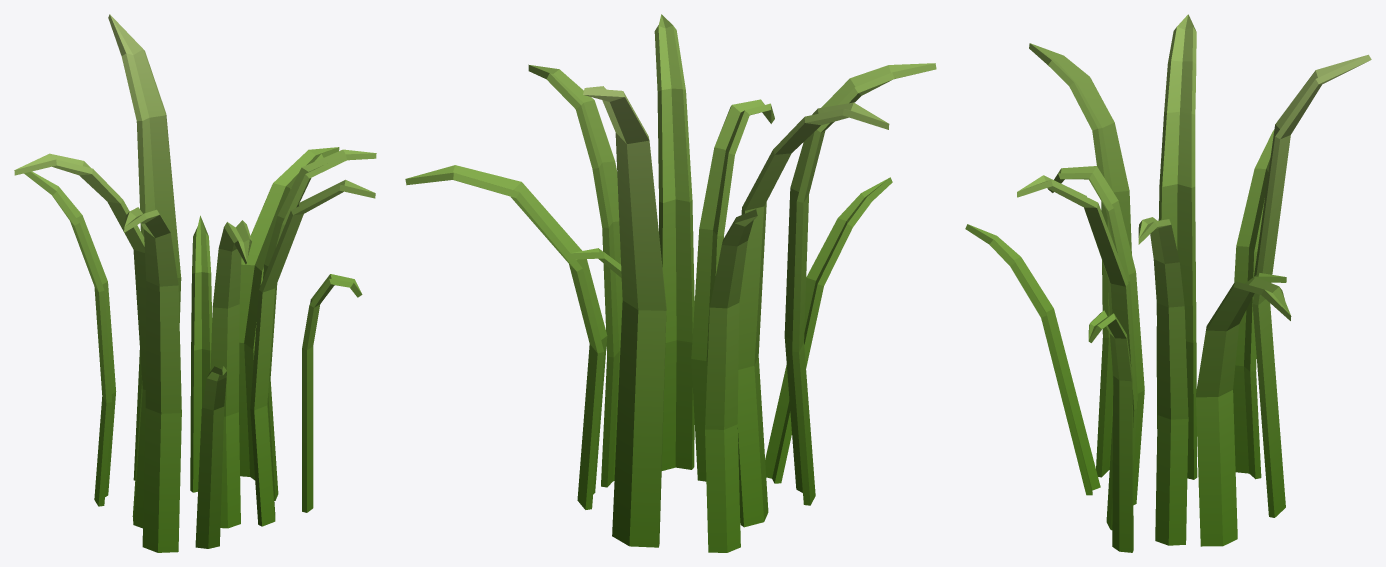
Rendered from plant.glb.
3 renders of one model, left to right at view 1: azimuth 30°, elevation 25°; view 2: azimuth 150°, elevation 25°; view 3: azimuth 270°, elevation 25°, orthographic. The views are drawn at different scales.
Parts seen in each view (by area): view 1: plant; view 2: plant; view 3: plant.
Boxes of the visible parts, bbox=[...] form: plant: bbox=[14, 14, 376, 552]; plant: bbox=[405, 14, 936, 552]; plant: bbox=[965, 14, 1371, 552].
Size of the model in its own units: 1.62 by 1.78 by 1.45.
Materials: 1 (1 with a texture image).
